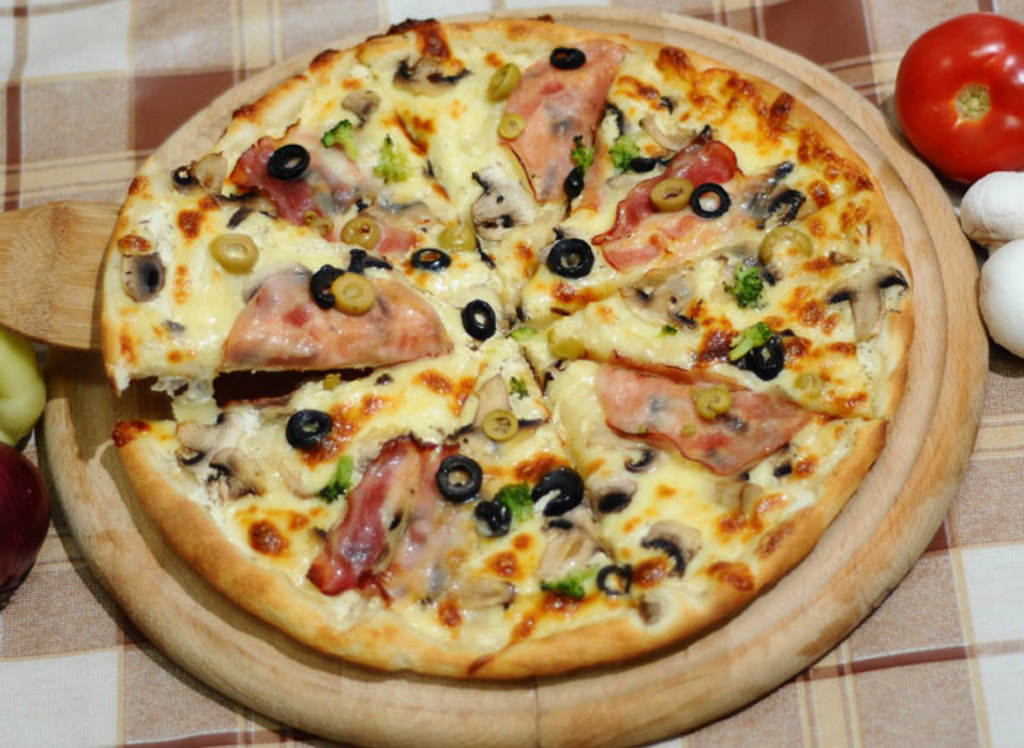Pizza: (96, 11, 920, 668)
